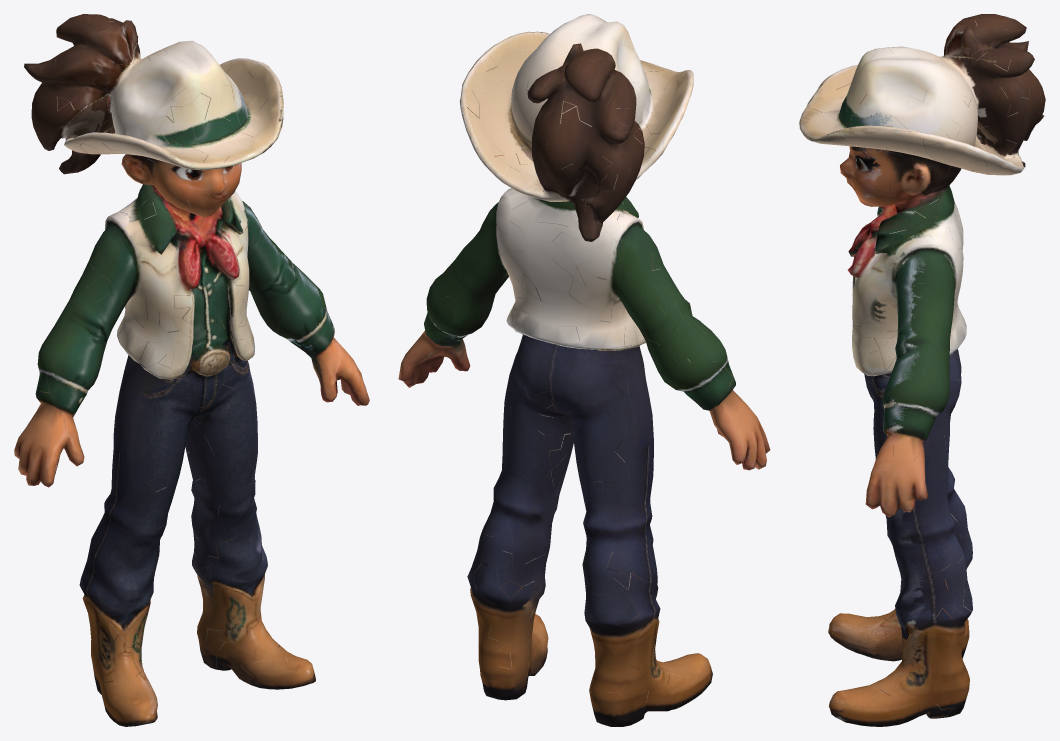
File: faye.glb
3 views of the same model, side by side, from view 1: azimuth 30°, elevation 25°; view 2: azimuth 150°, elevation 25°; view 3: azimuth 270°, elevation 25° (orthographic). The views are drawn at different scales.
Parts seen in each view (by area): view 1: geometry_0; view 2: geometry_0; view 3: geometry_0.
Boxes of the visible parts, x1,y1,x2,y2 form: geometry_0: [14, 14, 369, 726]; geometry_0: [398, 14, 770, 726]; geometry_0: [799, 14, 1045, 726].
Bounding box in the file's own units: 1.08 × 1.99 × 0.6925.
1 material, 1 textured.
